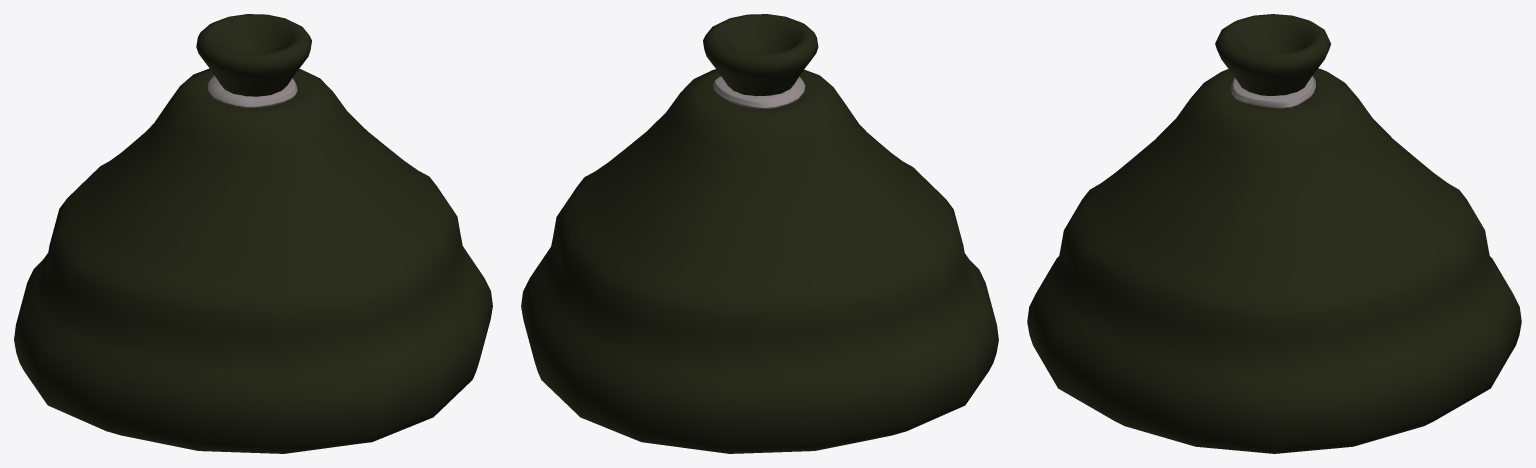
The model's file is BolsaN_03.fbx.
3 renders of one model, left to right at view 1: azimuth 30°, elevation 25°; view 2: azimuth 150°, elevation 25°; view 3: azimuth 270°, elevation 25°, orthographic.
Parts seen in each view (by area): view 1: BolsaN_03; view 2: BolsaN_03; view 3: BolsaN_03.
Part boxes in pixels (<box>): BolsaN_03: <box>14,14,492,453</box>; BolsaN_03: <box>521,14,998,453</box>; BolsaN_03: <box>1027,14,1521,453</box>.
Bounding box in the file's own units: 91.9 × 73.36 × 91.9.
